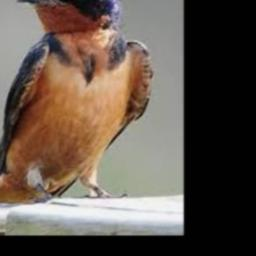Swallow: (0, 0, 154, 204)
